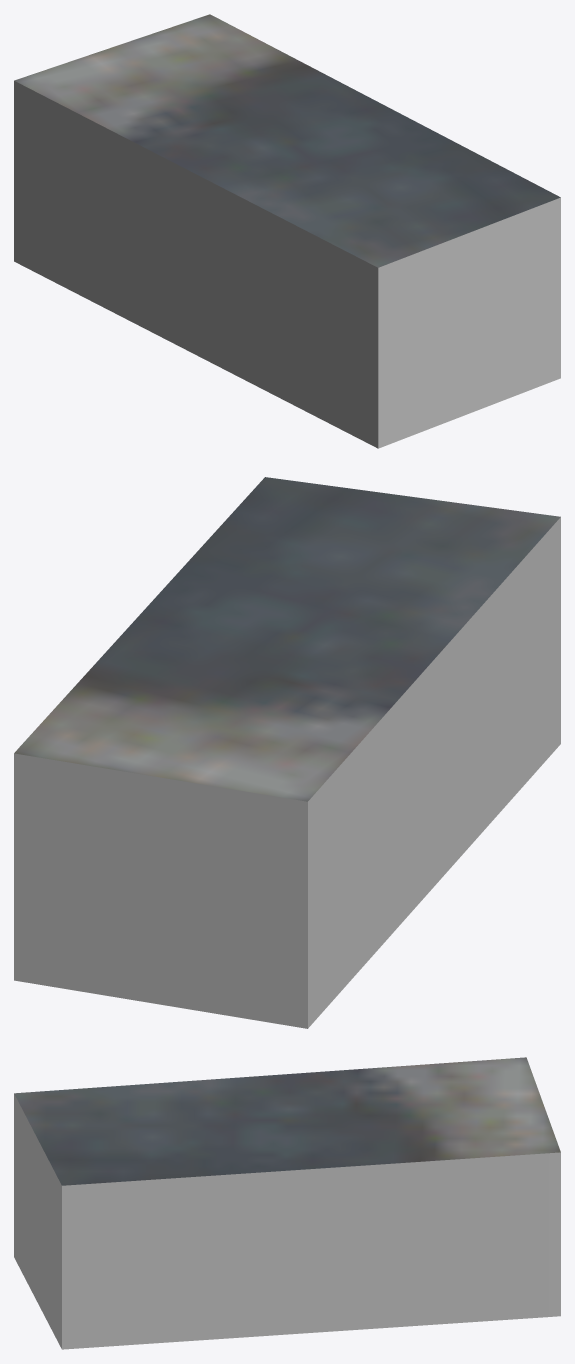
Rendered from DEBW_0010007TxdF.gltf.
3 renders of one model, top to bottom at view 1: azimuth 30°, elevation 25°; view 2: azimuth 150°, elevation 25°; view 3: azimuth 270°, elevation 25°, orthographic. The views are drawn at different scales.
Visible parts, largest first — view 1: Z_UP; view 2: Z_UP; view 3: Z_UP.
Part boxes in pixels (bbox=[...]): Z_UP: bbox=[14, 14, 560, 448]; Z_UP: bbox=[14, 477, 560, 1028]; Z_UP: bbox=[14, 1057, 560, 1349].
Size of the model in its own units: 4.5 by 2.68 by 8.1.
2 materials, 1 textured.
